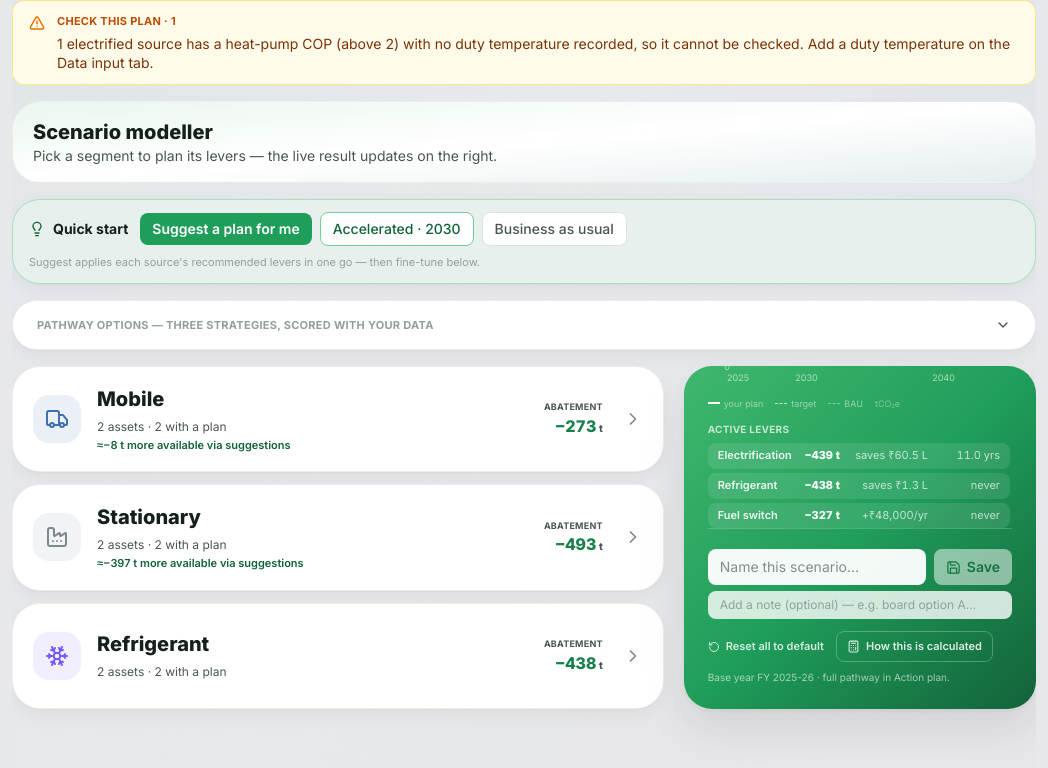
BuilderTab — scenario notes / duplicate / diff › saves a scenario with a note and shows it in the list
(page scrolled)
Type "Board option A" into the field with placeholder "Name this scenario…" at (817, 567), box [708, 549, 926, 585]
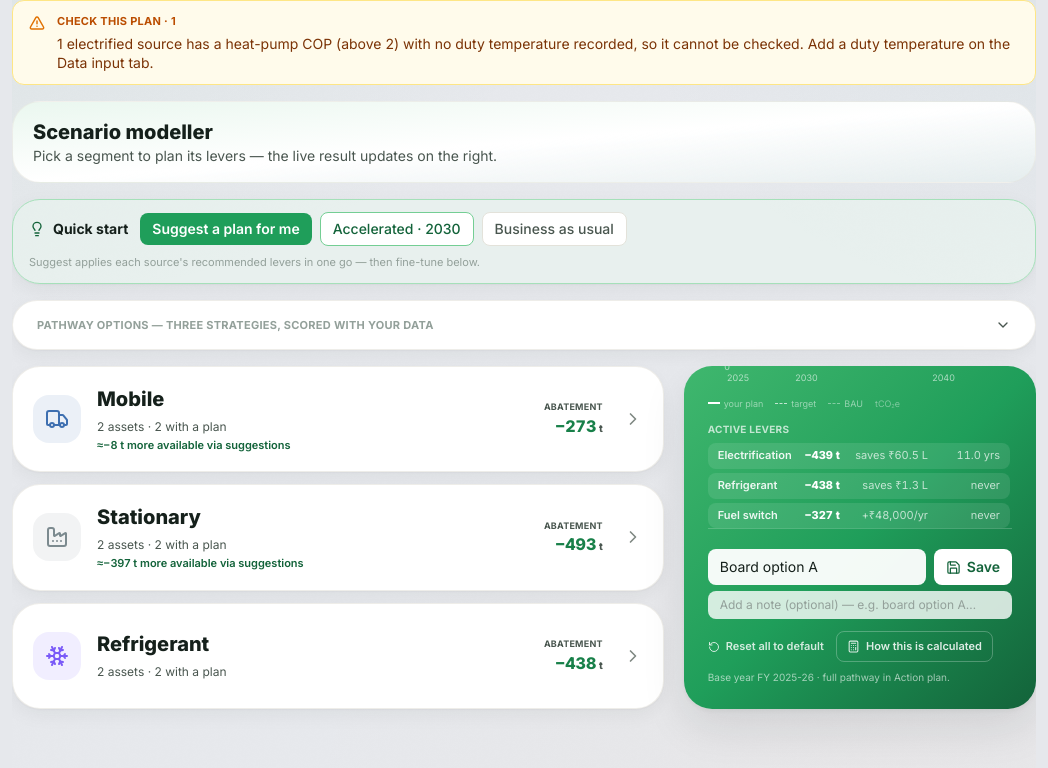
Type "CFO-constrained capex" into the field with placeholder "Add a note (optional) — e.g. board option A…" at (860, 605), box [708, 591, 1012, 619]
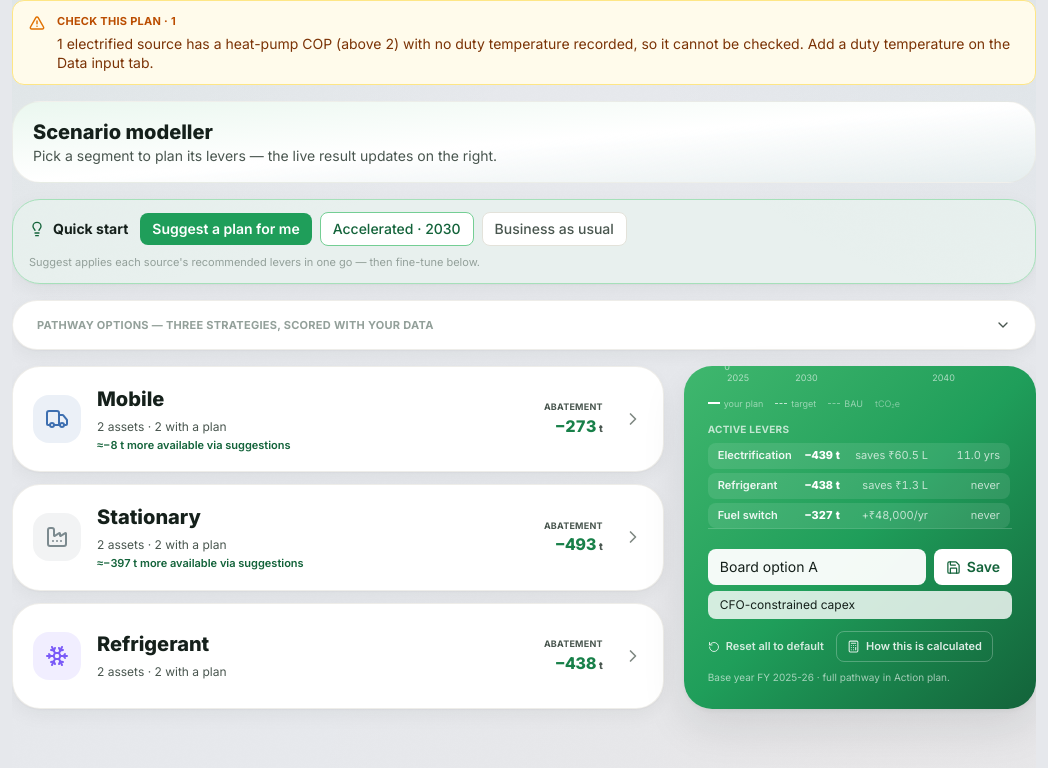
Click the button "Save" at (973, 567), box [934, 549, 1012, 585]
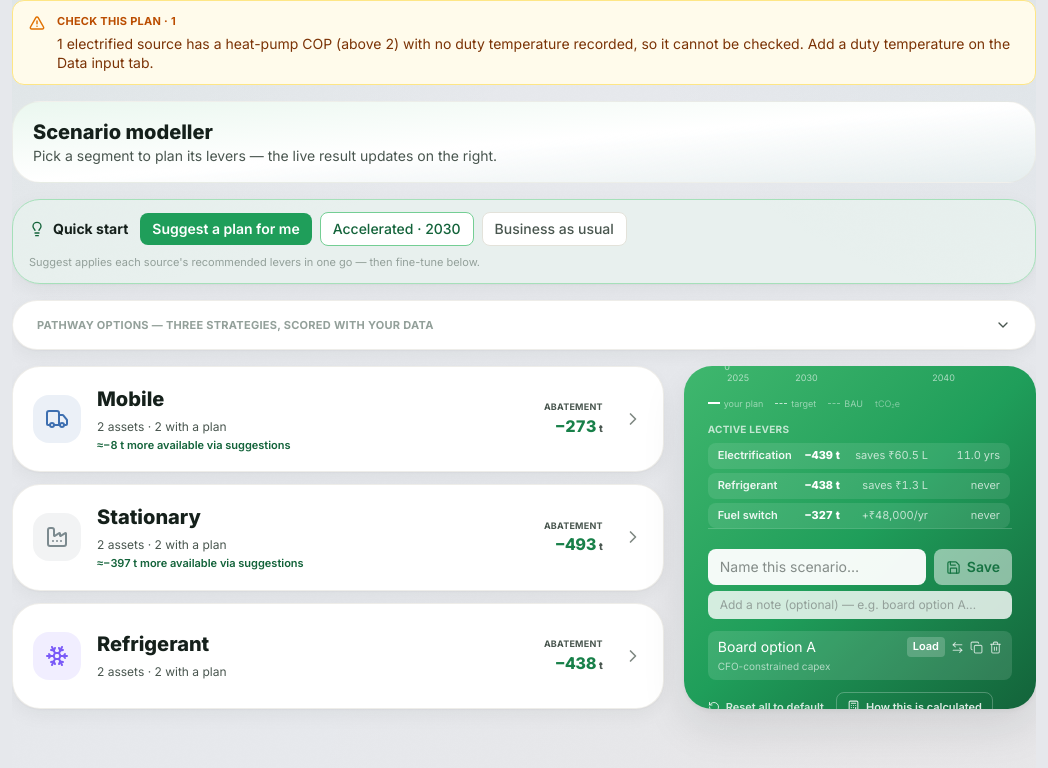
expect the text "Board option A" is shown: met, box [718, 638, 816, 655]
expect the text "CFO-constrained capex" is shown: met, box [718, 660, 830, 672]
